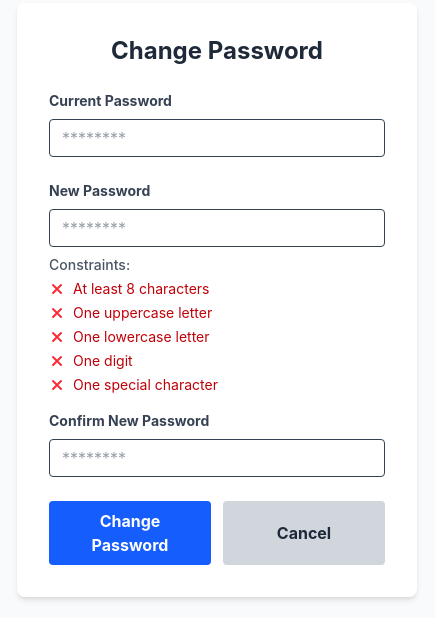
Test: ChangePasswordPage › should disable submit button during loading
This screenshot has width=435, height=618.
Type "OldPass123!" into the password field labelled "Current Password" at (217,138), box [49, 119, 385, 157]
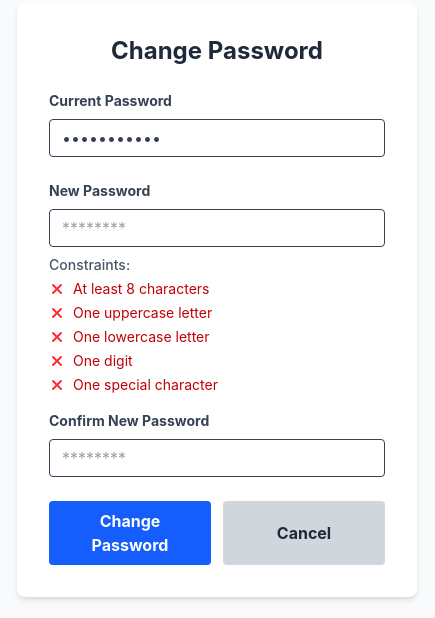
Type "NewPass123!" into the password field labelled "New Password" at (217,228), box [49, 209, 385, 247]
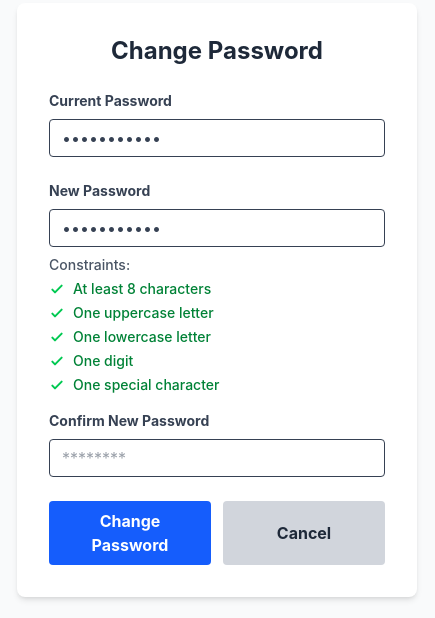
Type "NewPass123!" into the password field labelled "Confirm New Password" at (217,458), box [49, 439, 385, 477]
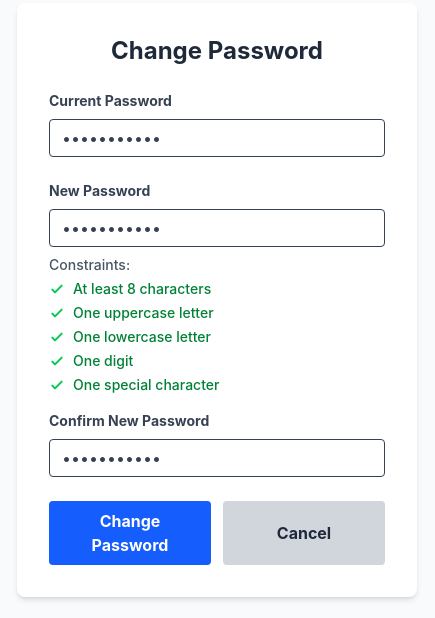
Click the button "Change Password" at (130,533), box [49, 501, 211, 565]
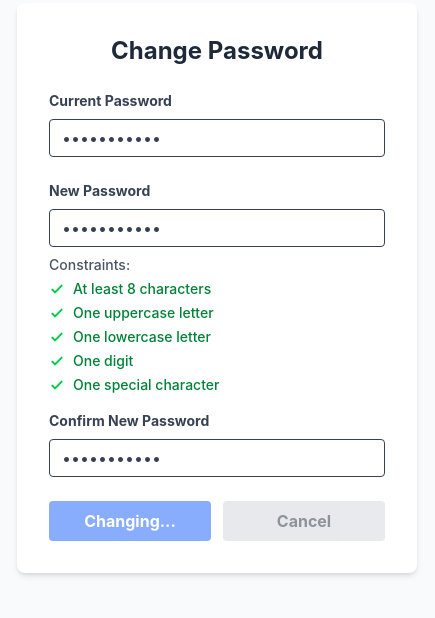
Expected: the button named "change password" is disabled, [49, 501, 211, 541]
